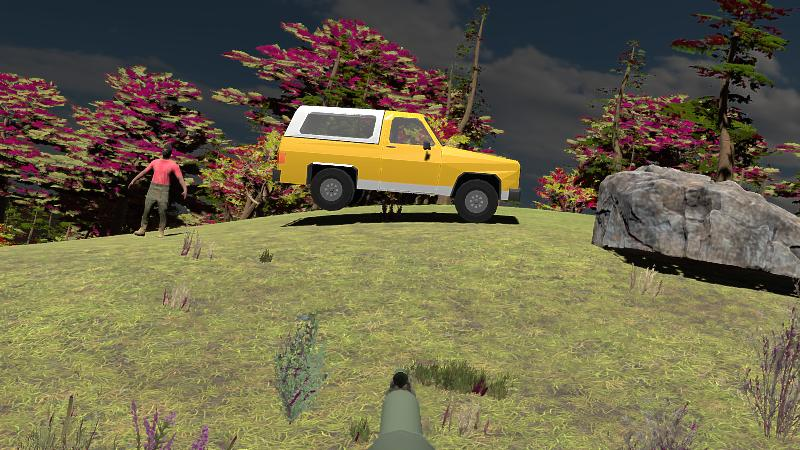Human: (129, 143, 186, 238)
car: (273, 106, 522, 221)
